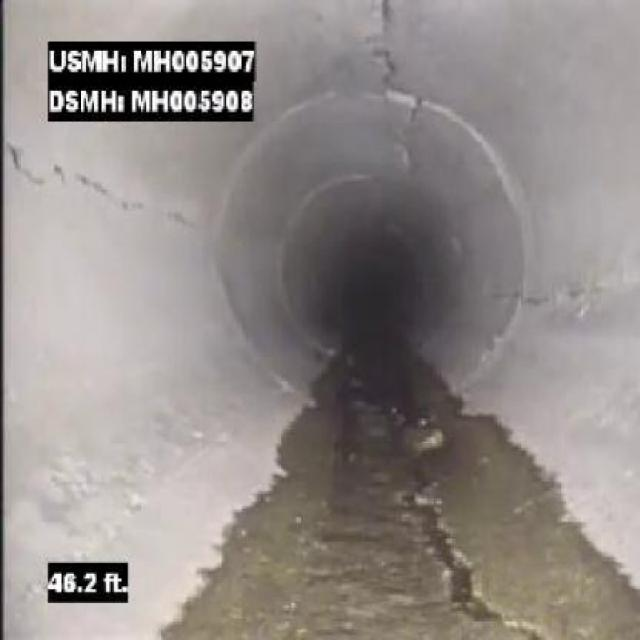Buckling: (414, 494, 506, 626)
Crack: (4, 134, 188, 223), (506, 272, 639, 314), (360, 2, 411, 92)
